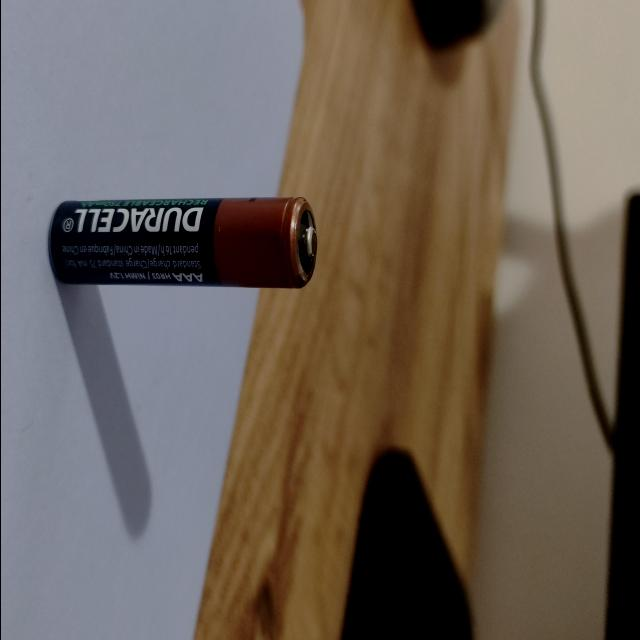AA: (40, 192, 323, 295)
